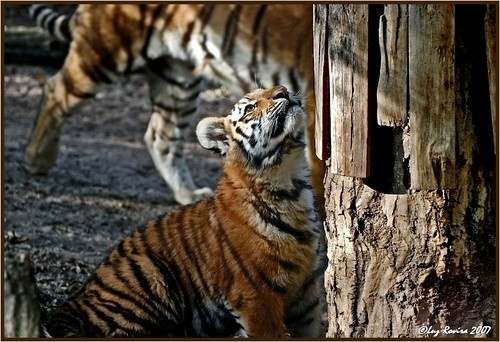tigre: (43, 81, 328, 337), (19, 1, 329, 198)
